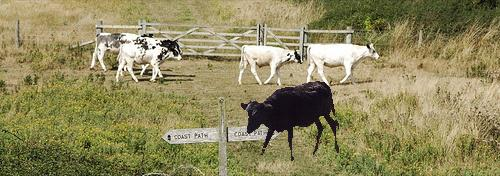tampered: (242, 82, 339, 161)
